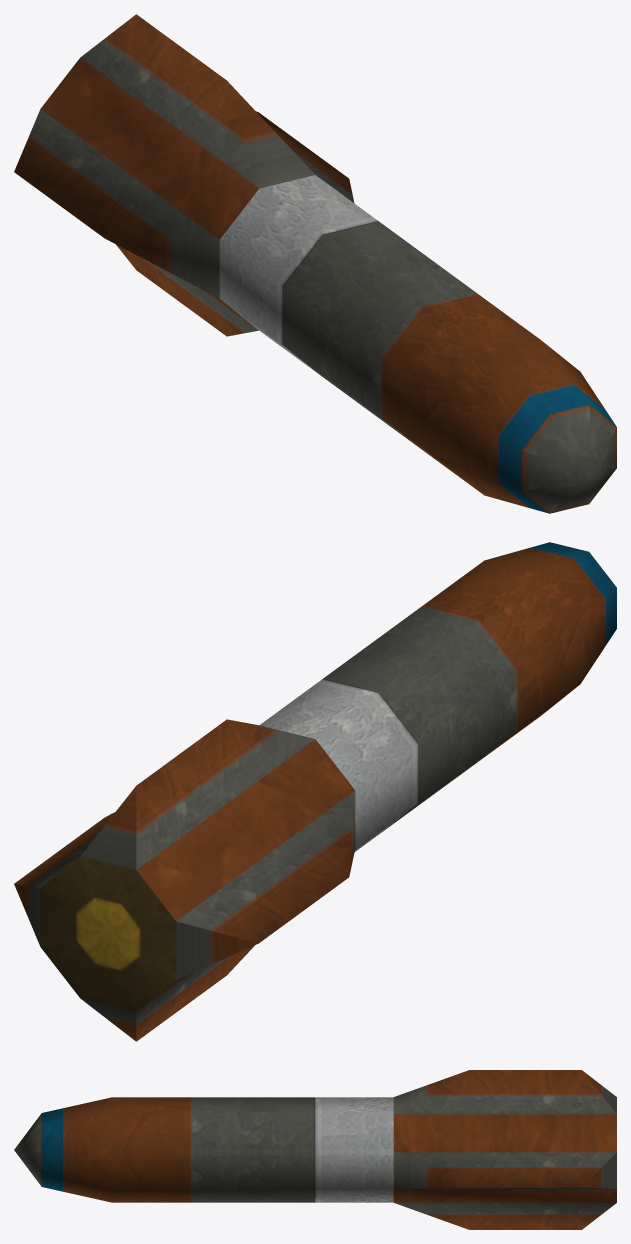
Rendered from iomfaf00.FBX.
3 views of the same model, one above another, from view 1: azimuth 30°, elevation 25°; view 2: azimuth 150°, elevation 25°; view 3: azimuth 270°, elevation 25° (orthographic). The views are drawn at different scales.
Visible parts, largest first — view 1: iomfaf00; view 2: iomfaf00; view 3: iomfaf00.
Boxes of the visible parts, x1,y1,x2,y2 form: iomfaf00: (14, 14, 616, 513); iomfaf00: (14, 542, 616, 1041); iomfaf00: (14, 1070, 616, 1229).
Size of the model in its own units: 0.3149 by 0.3149 by 1.08.
